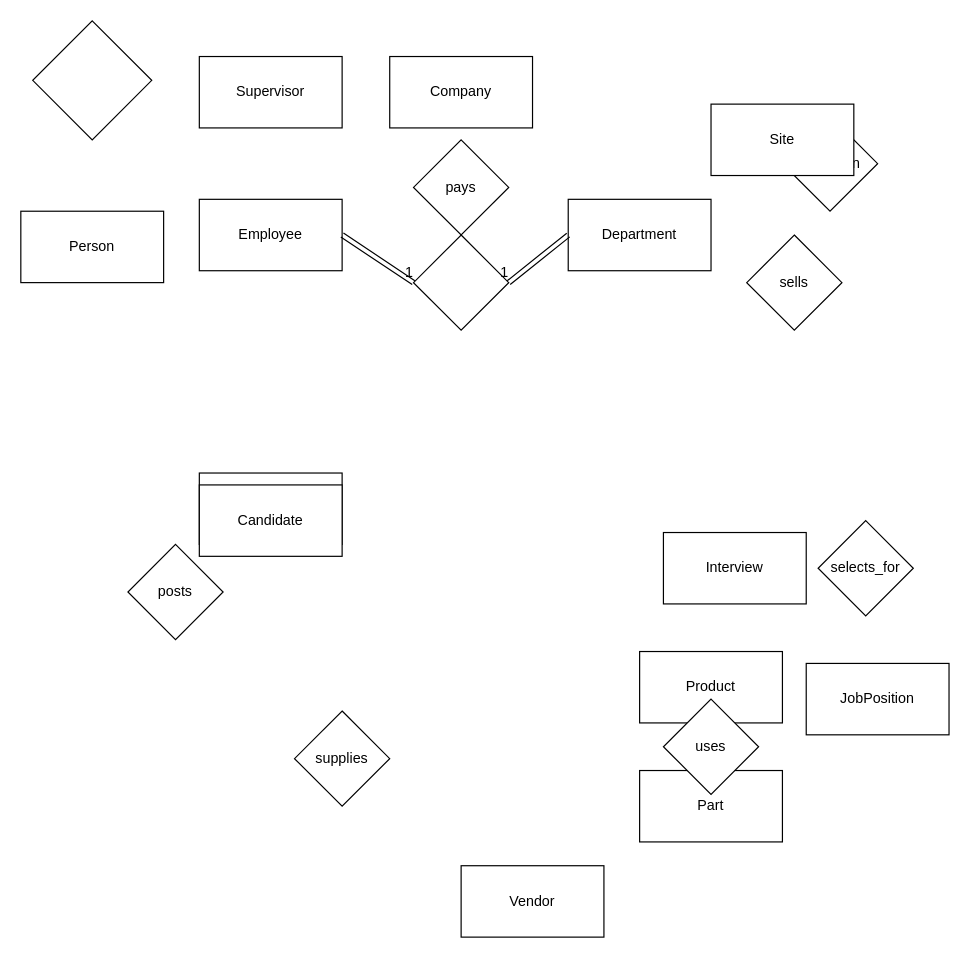
Some shapes in this 970 by 958 pixel diagram are drawn without their labels. The box of each missing label's shape, as (x1, y1, x2, y2) in pixels:
supervised_by: (32, 20, 152, 140)
works_for: (412, 234, 509, 330)
